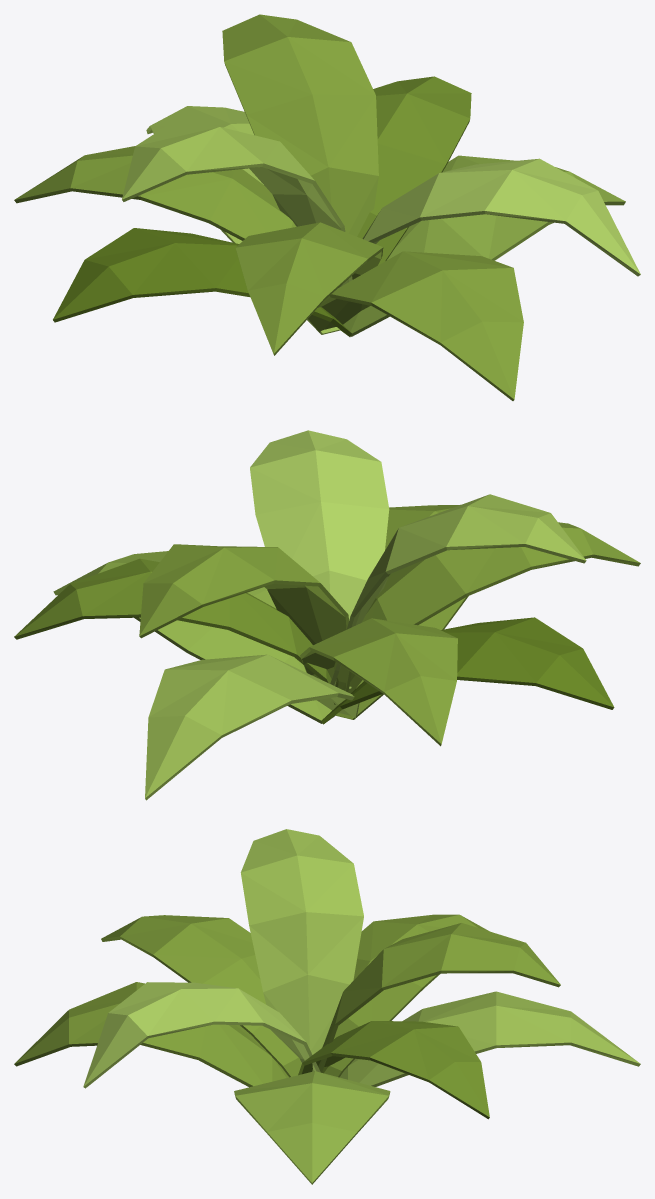
The model's file is Plant_01.fbx.
The picture shows the model from 3 angles, top to bottom: view 1: azimuth 30°, elevation 25°; view 2: azimuth 150°, elevation 25°; view 3: azimuth 270°, elevation 25°; orthographic projection. The views are drawn at different scales.
Visible parts, largest first — view 1: Plant_01; view 2: Plant_01; view 3: Plant_01.
Boxes of the visible parts, box(x1,y1,x2,y2) form: Plant_01: box(14, 14, 640, 400); Plant_01: box(14, 430, 640, 800); Plant_01: box(14, 829, 640, 1184).
Size of the model in its own units: 0.7659 by 0.3059 by 0.8519.
